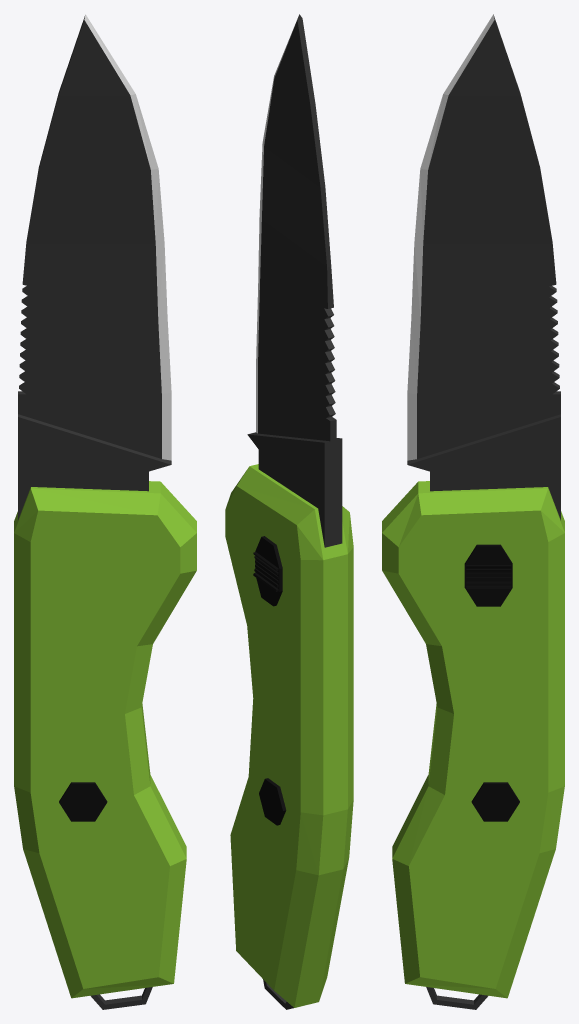
The model's file is Pocket Knife.obj.
3 renders of one model, left to right at view 1: azimuth 90°, elevation 25°; view 2: azimuth 210°, elevation 25°; view 3: azimuth 270°, elevation 25°, orthographic.
Visible parts, largest first — view 1: Pocket_Knife_Plane.002; view 2: Pocket_Knife_Plane.002; view 3: Pocket_Knife_Plane.002.
Boxes of the visible parts, box(x1,y1,x2,y2) form: Pocket_Knife_Plane.002: box(14, 14, 196, 1009); Pocket_Knife_Plane.002: box(225, 14, 353, 1009); Pocket_Knife_Plane.002: box(382, 14, 564, 1009).
Size of the model in its own units: 0.0143 by 0.2182 by 0.0364.
